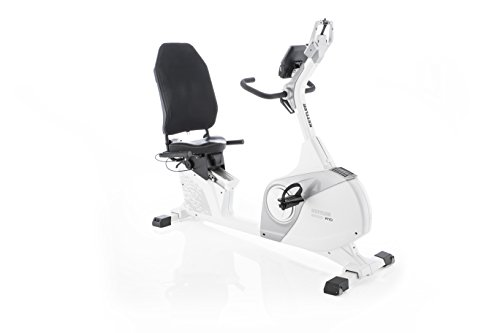gym_bike: (139, 25, 401, 303)
